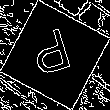P_S: (30, 25, 80, 85)
